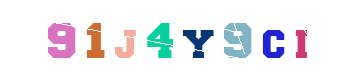1: (91, 0, 171, 80)
4: (132, 0, 212, 80)
9: (22, 0, 102, 80), (158, 0, 238, 80)
C: (193, 0, 273, 80)
I: (232, 0, 312, 80)
J: (121, 0, 201, 80)
Y: (141, 0, 221, 80)
